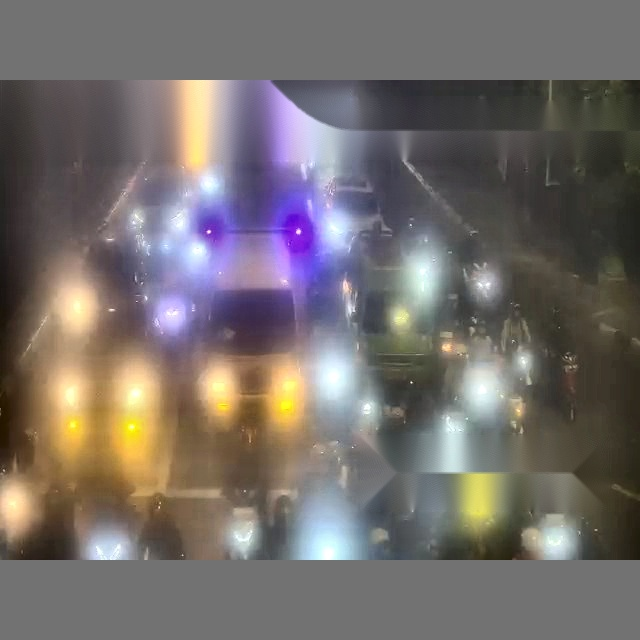Motor: (0, 478, 40, 554), (560, 352, 582, 422)
